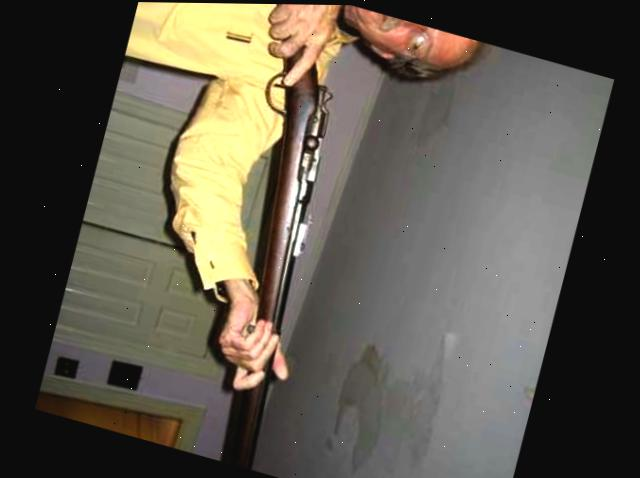rifle: (100, 1, 413, 478)
